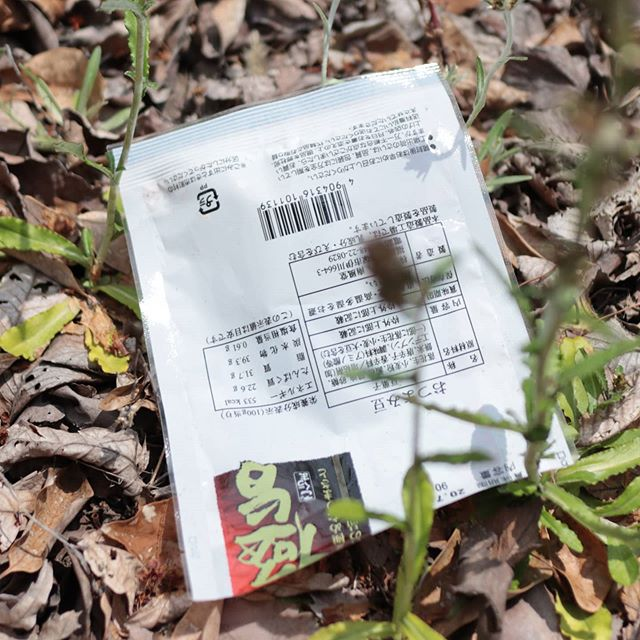trash: (84, 55, 544, 577)
